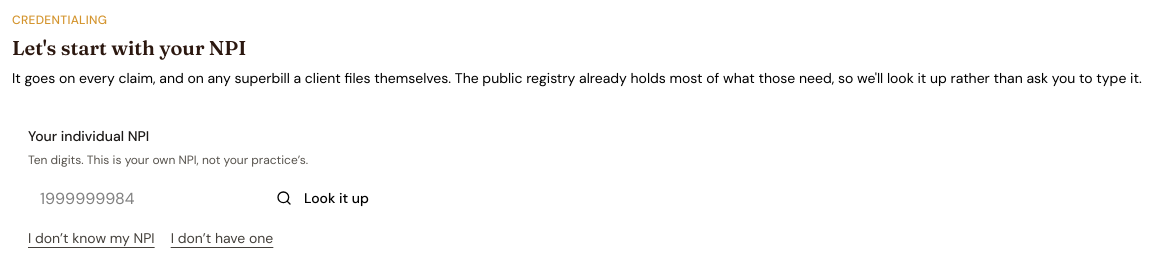
when we do not have it › refuses non-digits rather than sending them to the registry
Step 1. Type "19a9999b9984" into the field labelled "Your individual NPI" → (140,198), box [28, 180, 252, 216]
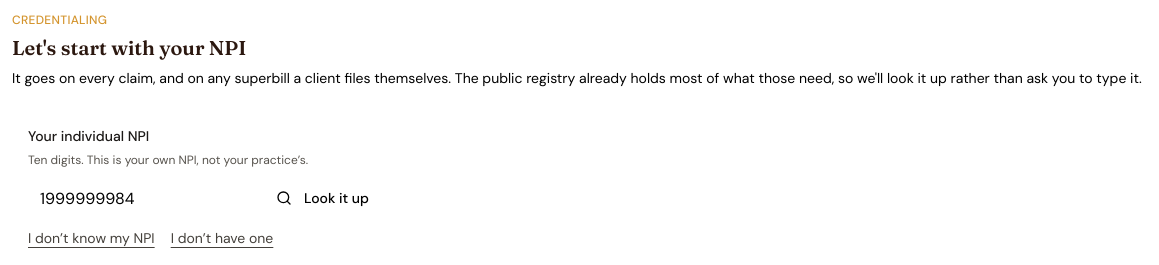
Result: the field labelled "Your individual NPI" holds "1999999984" at [28, 180, 252, 216]
